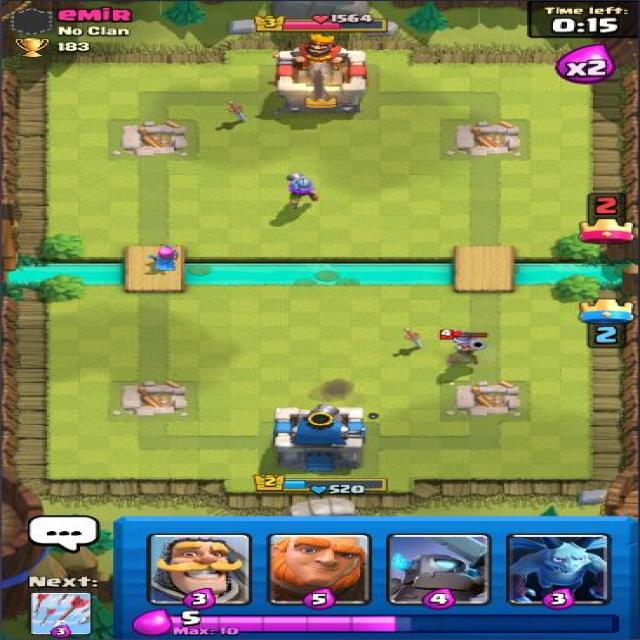Enemy-Musketeer: (436, 328, 494, 356)
Player-Archer: (144, 242, 183, 273)
Player-Musketeer: (280, 171, 323, 207)
